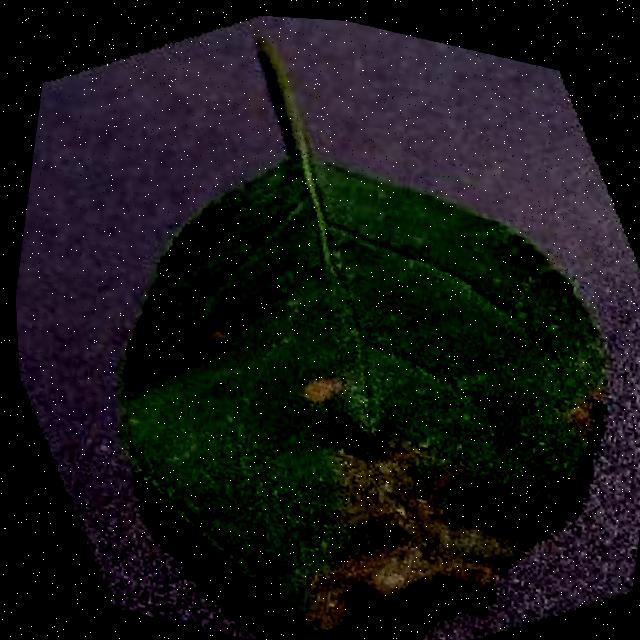black_rot: (278, 396, 562, 640), (551, 372, 622, 461), (286, 354, 358, 419), (182, 306, 246, 357)
